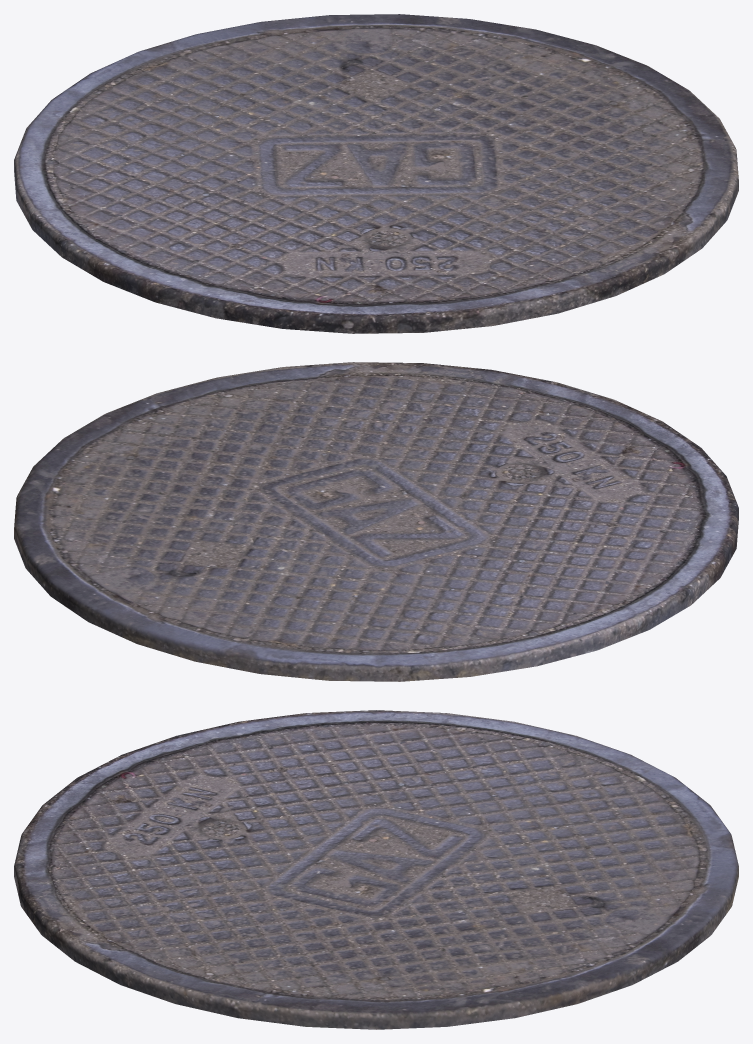
The model's file is sever metal cap.fbx.
3 views of the same model, one above another, from view 1: azimuth 30°, elevation 25°; view 2: azimuth 150°, elevation 25°; view 3: azimuth 270°, elevation 25° (orthographic).
Visible parts, largest first — view 1: Circle; view 2: Circle; view 3: Circle.
Part boxes in pixels (bbox=[...]): Circle: bbox=[14, 14, 738, 333]; Circle: bbox=[14, 362, 738, 681]; Circle: bbox=[14, 710, 738, 1029].
Size of the model in its own units: 54.19 by 1.25 by 54.19.
Materials: 1 (1 with a texture image).
